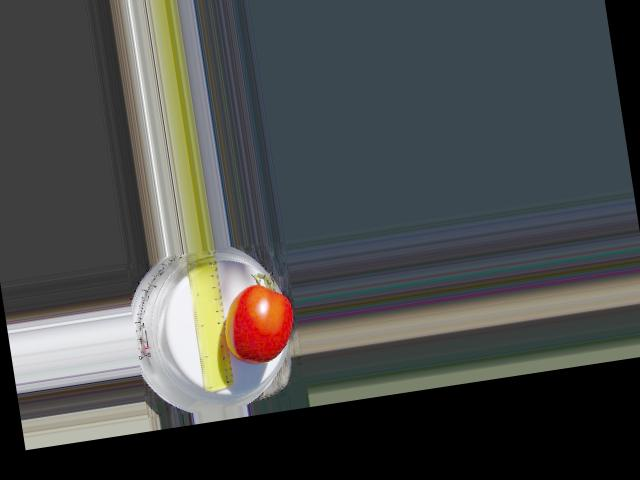tomato: (217, 279, 299, 367)
